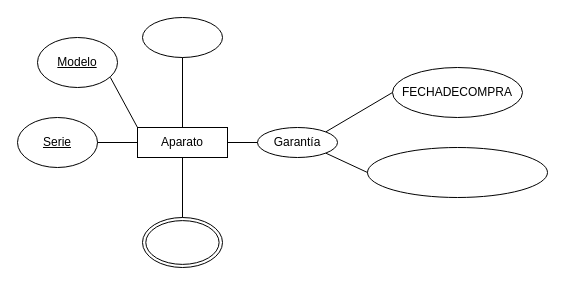
Some shapes in this 565 by 285 pixel diagram are drawn without their labels. The box of each missing label's shape, as (x1, y1, x2, y2) in pixels:
COMERCIOVENDEDOR: (366, 146, 548, 198)
Marca: (142, 16, 222, 58)
Tipo: (145, 220, 219, 264)
